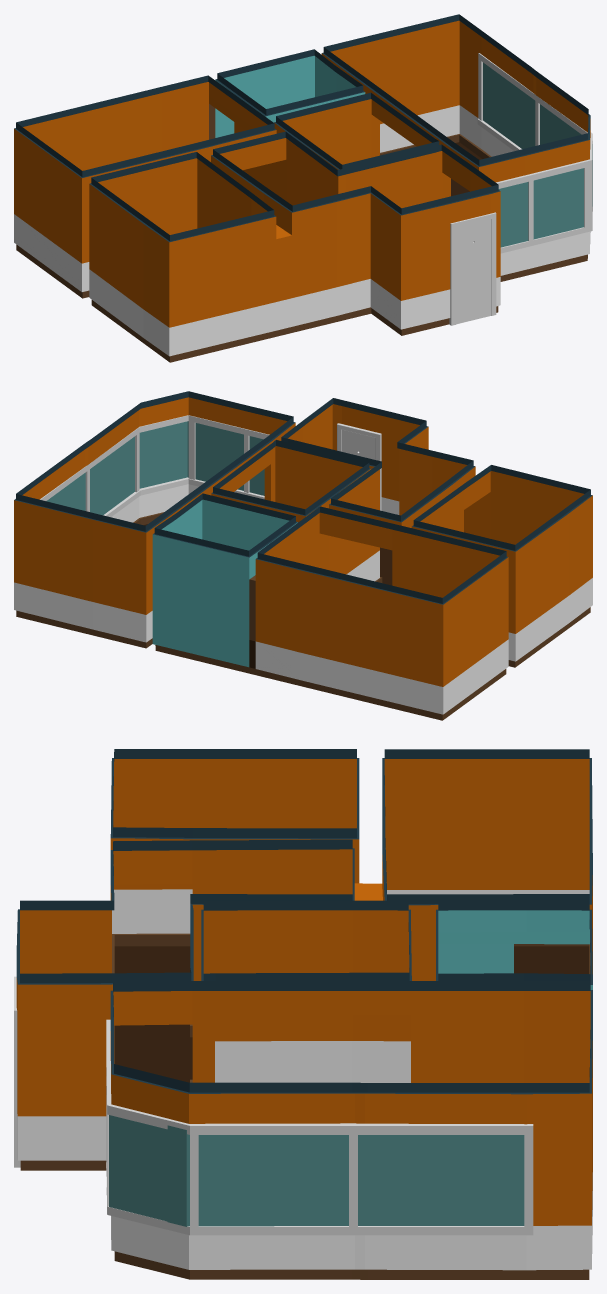
File: Casa14.FBX
3 renders of one model, top to bottom at view 1: azimuth 30°, elevation 25°; view 2: azimuth 150°, elevation 25°; view 3: azimuth 270°, elevation 25°, orthographic. The views are drawn at different scales.
Parts seen in each view (by area): view 1: Plane001, Object001, Object003, Box002, Box001; view 2: Plane001, Object001, Object003, Box002, Box001; view 3: Plane001, Object001, Object003, Box001.
Part boxes in pixels (<box>): Plane001: <box>14,14,590,362</box>; Object001: <box>483,62,592,247</box>; Object003: <box>477,53,592,253</box>; Box002: <box>456,219,490,324</box>; Box001: <box>449,212,496,325</box>; Plane001: <box>14,391,592,720</box>; Object001: <box>46,421,264,515</box>; Object003: <box>40,415,269,517</box>; Box002: <box>342,429,375,459</box>; Box001: <box>337,423,381,510</box>; Plane001: <box>16,749,592,1279</box>; Object001: <box>109,1115,524,1226</box>; Object003: <box>106,1019,533,1235</box>; Box001: <box>14,976,20,1167</box>.
Bounding box in the file's own units: 596 × 162 × 431.
